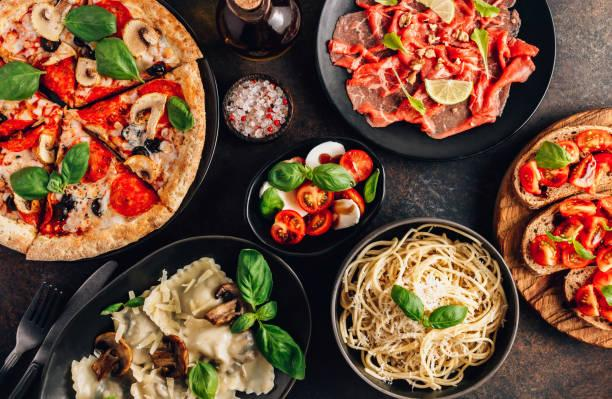Braised Crucian Carp: (5, 1, 221, 263), (38, 235, 306, 399), (317, 0, 555, 161), (329, 217, 516, 398), (496, 103, 612, 358)
